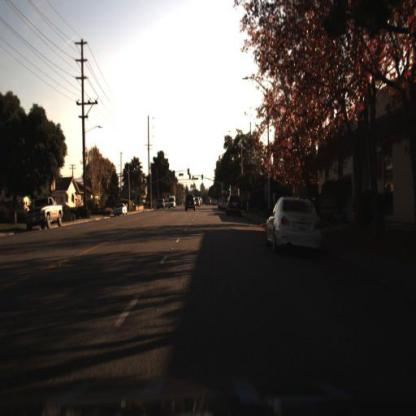car: (266, 193, 326, 254), (23, 195, 66, 228), (228, 192, 245, 217), (113, 200, 130, 224), (112, 201, 130, 219), (185, 194, 197, 215), (156, 194, 166, 212), (167, 195, 177, 212)
